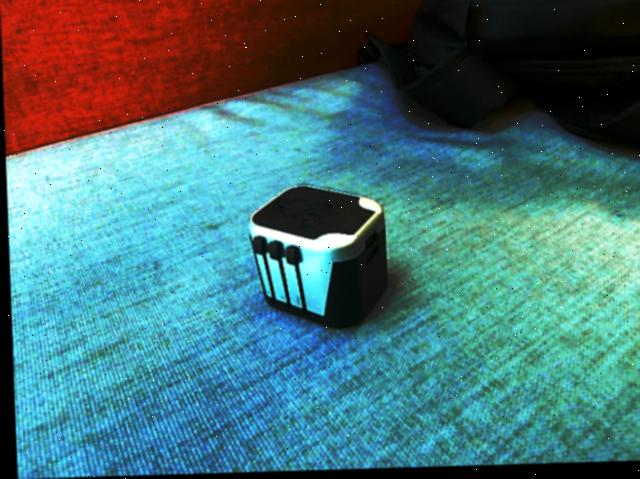adapter: (245, 183, 387, 332)
